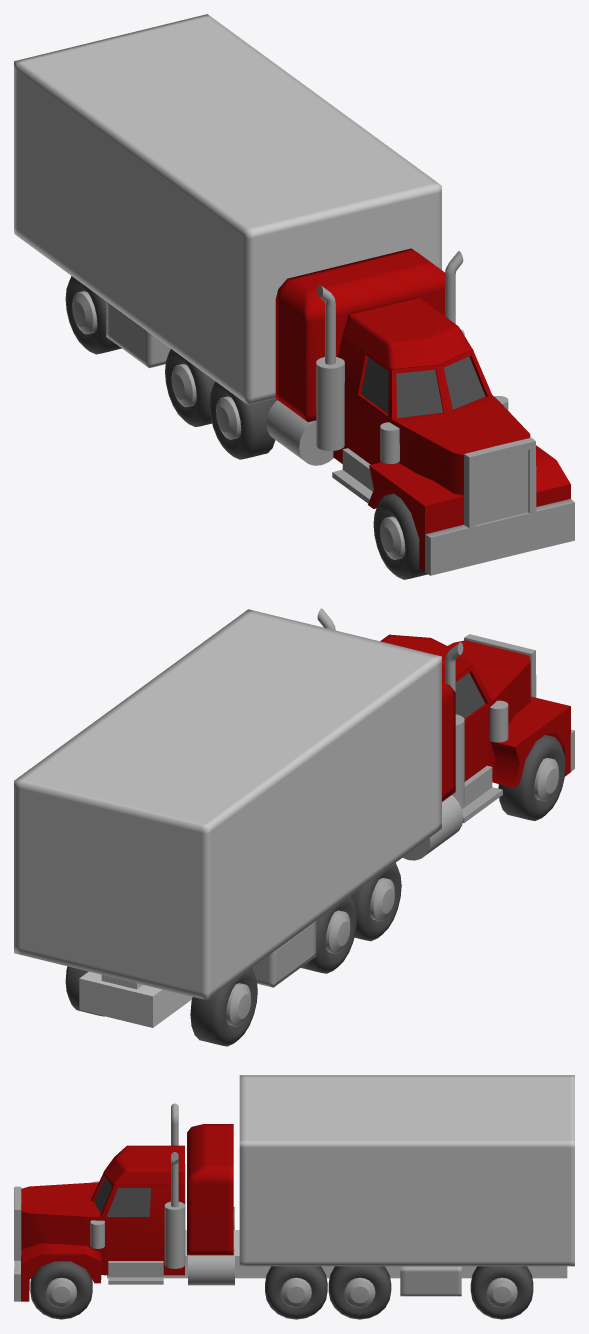
The model's file is lorry.fbx.
3 views of the same model, one above another, from view 1: azimuth 30°, elevation 25°; view 2: azimuth 150°, elevation 25°; view 3: azimuth 270°, elevation 25° (orthographic). The views are drawn at different scales.
Parts seen in each view (by area): view 1: polySurface13; view 2: polySurface13; view 3: polySurface13.
Part boxes in pixels (x1,y1,x2,y2): polySurface13: (14,14,574,579); polySurface13: (14,608,574,1046); polySurface13: (14,1075,574,1319).
Bounding box in the file's own units: 0.3536 × 0.4521 × 1.24.
